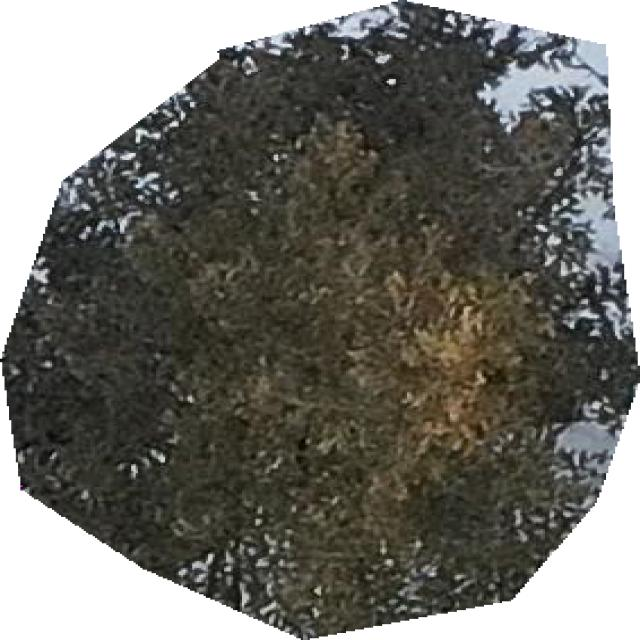spruce: (0, 0, 638, 638)
